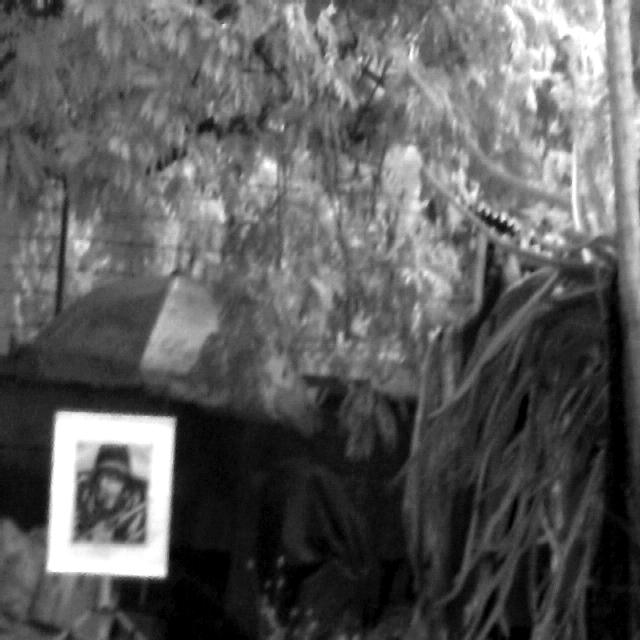bia: (72, 442, 151, 546)
